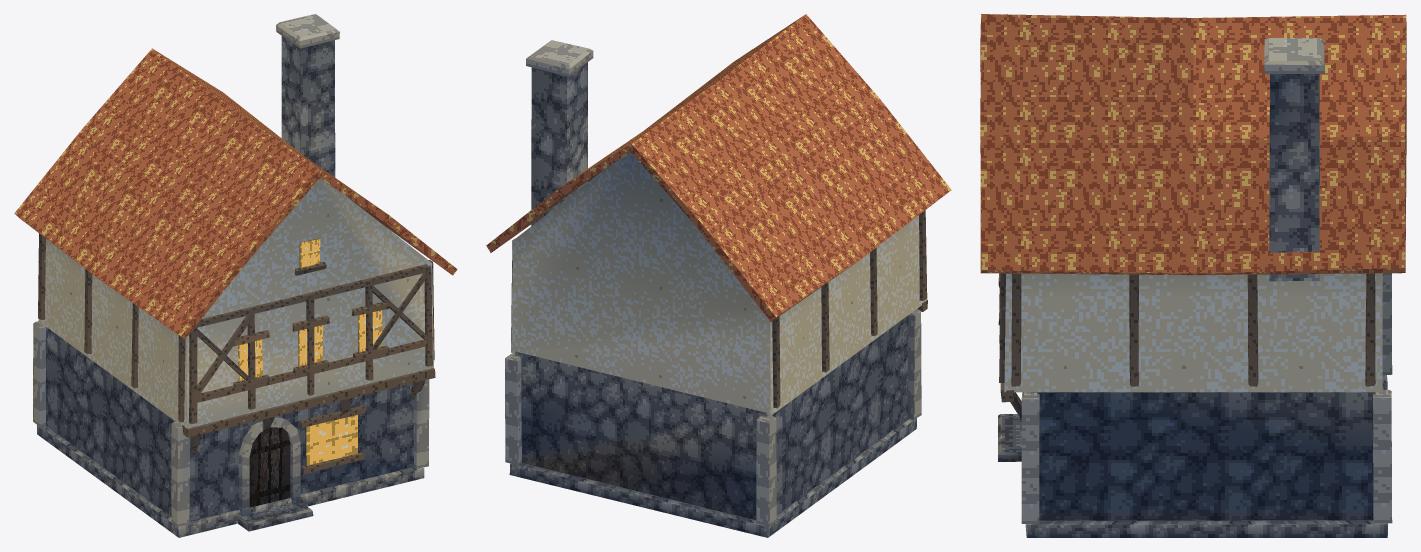
File: vlg.cottage__townhouse.glb
The picture shows the model from 3 angles, left to right: view 1: azimuth 30°, elevation 25°; view 2: azimuth 150°, elevation 25°; view 3: azimuth 270°, elevation 25°; orthographic projection. The views are drawn at different scales.
Visible parts, largest first — view 1: kit_walls, kit_roof, kit_frame, kit_fittings, kit_stonework; view 2: kit_walls, kit_roof, kit_stonework, kit_frame; view 3: kit_roof, kit_walls, kit_stonework, kit_frame, kit_fittings.
Part boxes in pixels (x1=…): kit_walls: x1=38, y1=178, x2=433, y2=521; kit_roof: x1=14, y1=48, x2=457, y2=338; kit_frame: x1=33, y1=233, x2=435, y2=526; kit_fittings: x1=233, y1=238, x2=389, y2=531; kit_stonework: x1=37, y1=14, x2=424, y2=537; kit_walls: x1=511, y1=152, x2=926, y2=520; kit_roof: x1=486, y1=14, x2=951, y2=321; kit_stonework: x1=509, y1=40, x2=916, y2=537; kit_frame: x1=505, y1=210, x2=927, y2=526; kit_roof: x1=980, y1=14, x2=1406, y2=275; kit_walls: x1=1004, y1=273, x2=1382, y2=520; kit_stonework: x1=1025, y1=38, x2=1387, y2=537; kit_frame: x1=999, y1=273, x2=1392, y2=524; kit_fittings: x1=998, y1=273, x2=1021, y2=461.
Bounding box in the file's own units: 6.97 × 9.07 × 7.28.
8 materials, 8 textured.
